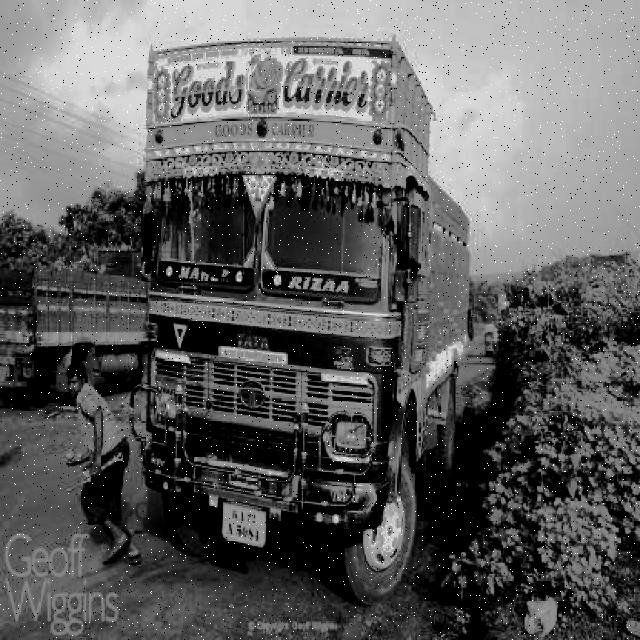HCV: (137, 46, 457, 604)
